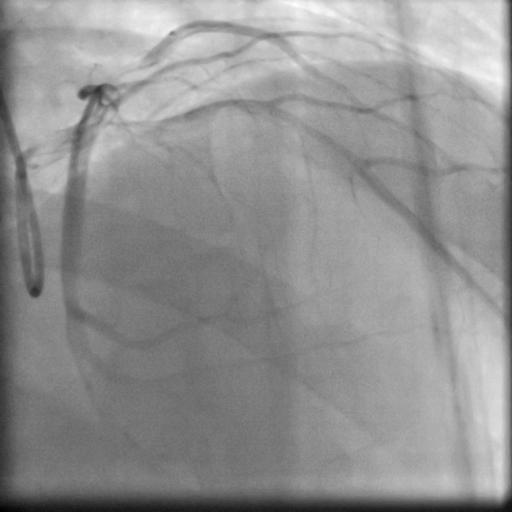Stenosis: (103, 57, 152, 81)
